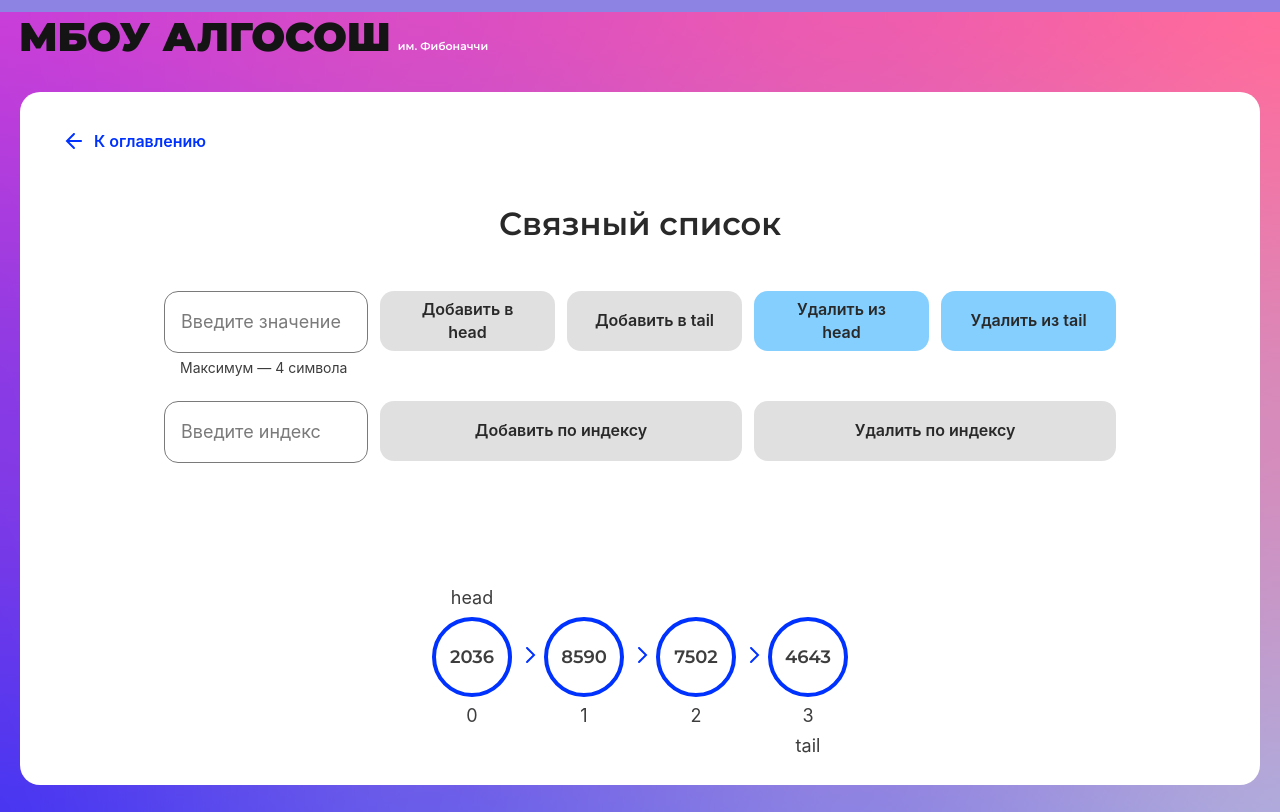
Test: List Page › should add an element to the tail with different circle colors
The width and height of the screenshot is (1280, 812).
Type "111" into the field with test id "main-input" at x=266, y=322, box [164, 291, 368, 353]
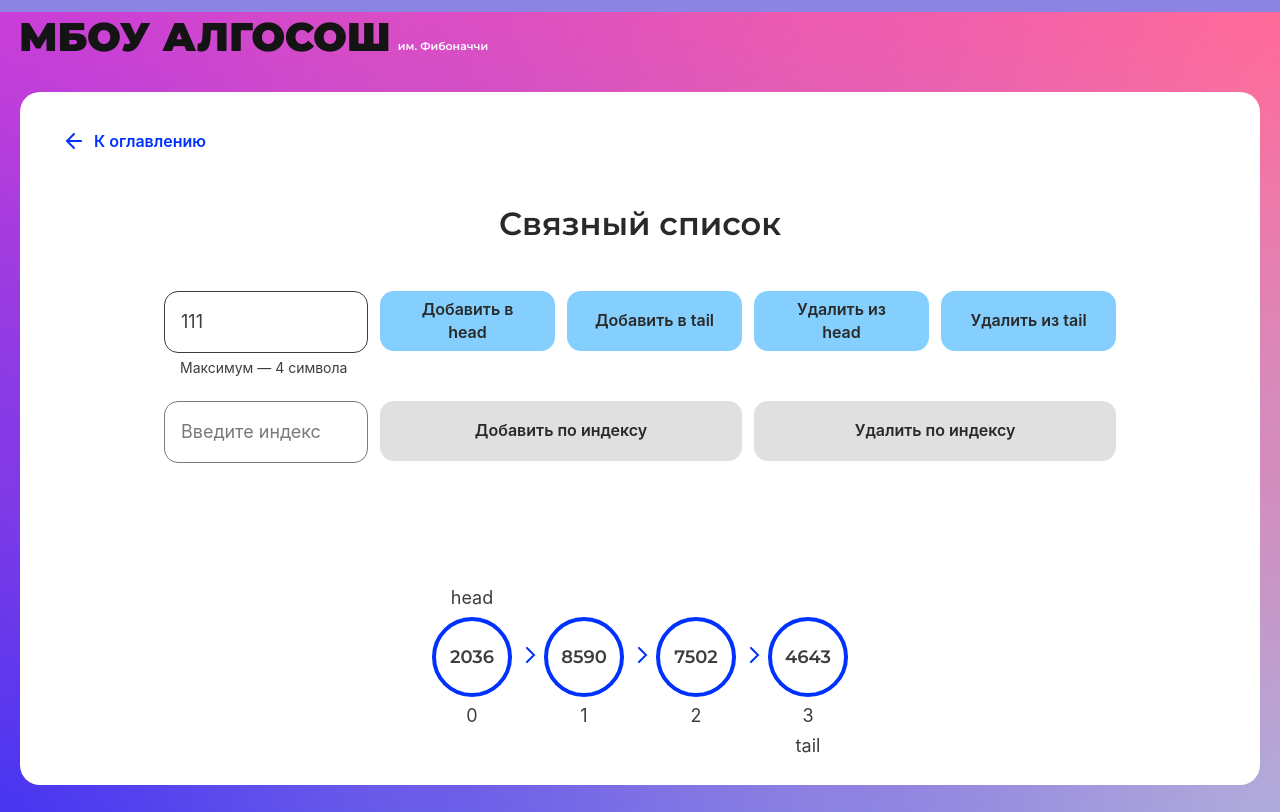
Click the button with test id "btn-addToTail" at x=655, y=321, box [567, 291, 742, 351]
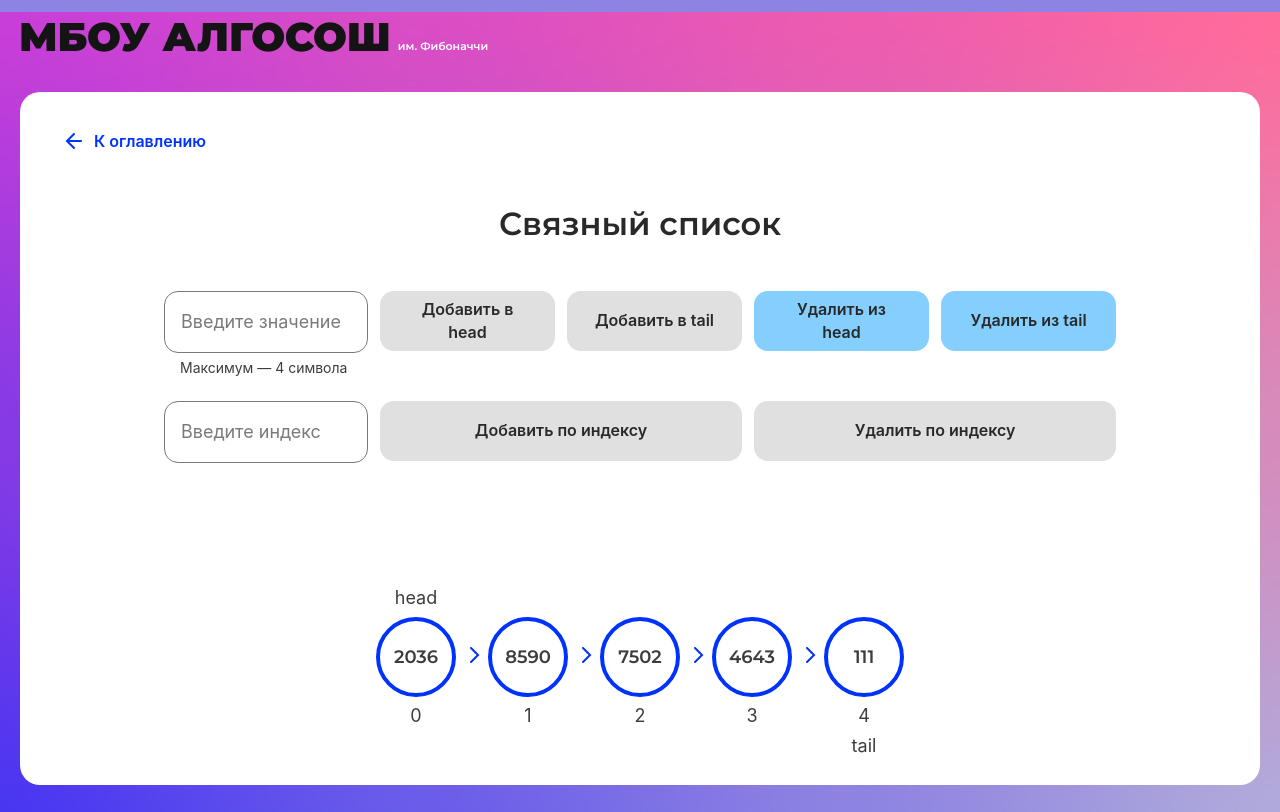
Check: the element with test id "circle" reads "111", box [824, 617, 904, 697]
